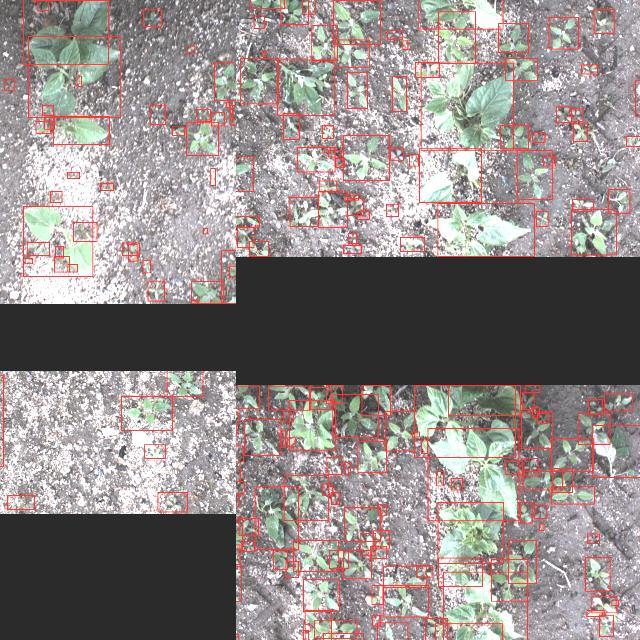crop: (428, 428, 518, 520), (421, 62, 514, 150), (27, 36, 119, 116), (414, 385, 514, 457), (443, 571, 527, 640), (22, 0, 107, 64), (437, 204, 533, 256), (22, 206, 92, 276), (437, 502, 503, 564), (419, 149, 481, 203), (277, 59, 333, 115), (418, 0, 502, 29), (448, 385, 520, 415), (332, 0, 380, 44), (342, 136, 390, 180), (570, 210, 616, 254), (438, 11, 474, 63), (516, 150, 552, 200), (239, 58, 277, 104), (52, 116, 108, 144), (438, 558, 482, 586), (434, 624, 501, 640), (318, 192, 347, 228), (548, 17, 578, 48), (296, 148, 334, 172), (334, 40, 368, 66), (498, 23, 528, 52), (312, 25, 336, 61), (289, 198, 317, 226), (347, 72, 367, 108), (505, 58, 537, 80), (280, 0, 308, 25), (499, 125, 528, 148), (236, 156, 252, 191), (392, 76, 406, 112), (248, 242, 268, 256), (250, 0, 284, 8), (236, 216, 258, 227), (635, 80, 640, 116)
weed: (254, 486, 298, 550), (592, 425, 640, 477), (289, 400, 335, 450), (284, 476, 328, 520), (332, 394, 378, 436), (120, 396, 172, 430), (490, 559, 528, 601), (382, 585, 428, 617), (292, 540, 338, 572), (550, 438, 592, 472), (244, 419, 280, 455), (508, 540, 536, 584), (344, 507, 380, 541), (384, 411, 414, 451), (520, 412, 552, 448), (302, 580, 338, 612), (186, 122, 218, 156), (268, 385, 310, 409), (382, 566, 426, 588), (577, 414, 609, 444), (356, 441, 386, 473), (166, 371, 202, 397), (584, 557, 610, 591), (362, 385, 391, 415), (343, 550, 371, 580), (214, 62, 236, 100), (304, 610, 331, 640), (522, 470, 562, 490), (550, 486, 594, 504), (314, 620, 356, 638), (191, 282, 223, 304), (157, 492, 187, 512), (607, 189, 629, 213), (377, 623, 407, 640), (236, 385, 258, 408), (425, 618, 447, 640), (308, 387, 330, 409), (72, 222, 96, 242), (593, 9, 613, 33), (552, 468, 572, 492), (603, 394, 631, 411), (283, 113, 299, 139), (6, 496, 34, 510), (415, 62, 439, 78), (400, 236, 424, 252), (592, 596, 616, 612), (236, 228, 254, 248), (238, 518, 258, 536), (328, 550, 348, 568), (149, 105, 165, 125), (147, 281, 163, 301), (272, 550, 288, 570), (323, 632, 363, 640), (599, 615, 613, 637), (360, 533, 374, 555), (143, 10, 161, 26), (347, 198, 363, 216), (326, 385, 342, 403), (372, 531, 388, 549), (27, 242, 49, 255), (144, 445, 164, 459), (573, 124, 587, 142), (523, 458, 537, 476), (326, 456, 340, 474), (572, 200, 592, 212), (520, 502, 532, 522), (54, 256, 68, 272), (555, 108, 571, 122), (505, 460, 521, 474), (521, 392, 533, 410), (122, 242, 138, 255), (369, 546, 386, 558), (210, 112, 224, 126), (588, 400, 602, 414), (415, 565, 431, 577), (286, 561, 298, 577), (236, 517, 242, 548), (318, 181, 336, 191), (372, 586, 382, 604), (301, 0, 314, 13), (36, 121, 50, 133), (196, 109, 210, 121), (535, 212, 547, 226), (570, 108, 582, 122), (581, 64, 597, 74), (386, 30, 402, 40), (625, 136, 640, 146), (128, 244, 136, 262), (252, 16, 264, 28), (342, 246, 360, 254), (386, 204, 398, 216), (390, 148, 402, 160), (534, 506, 546, 518), (451, 478, 462, 490), (322, 125, 332, 138), (240, 541, 253, 551), (44, 117, 54, 129), (4, 79, 14, 91), (172, 126, 184, 136), (230, 105, 236, 125), (532, 133, 544, 143), (543, 156, 555, 166), (408, 154, 418, 166), (587, 533, 599, 543), (536, 413, 548, 423), (283, 409, 293, 421), (142, 260, 150, 274), (525, 384, 539, 392), (236, 445, 243, 461), (50, 192, 61, 202), (586, 611, 604, 617), (42, 105, 52, 115), (37, 0, 47, 10), (334, 158, 344, 168), (322, 484, 332, 494), (55, 246, 63, 258), (328, 150, 340, 158), (357, 212, 369, 220), (436, 470, 442, 486), (421, 438, 427, 454), (331, 492, 339, 504), (378, 504, 386, 516), (236, 481, 243, 494), (66, 172, 80, 178), (100, 183, 112, 190), (67, 264, 77, 272), (228, 266, 236, 276), (348, 234, 356, 244), (372, 616, 380, 626), (210, 168, 214, 186), (344, 462, 350, 474), (287, 438, 295, 447), (236, 544, 239, 566), (281, 431, 285, 447), (402, 40, 408, 50), (532, 407, 538, 417), (236, 466, 240, 481), (232, 105, 236, 119), (344, 196, 358, 200), (302, 630, 307, 640), (24, 258, 32, 264), (186, 46, 194, 52), (304, 624, 310, 632), (76, 76, 80, 86), (236, 493, 239, 506), (538, 524, 544, 530), (612, 600, 618, 606), (191, 300, 197, 304), (203, 228, 207, 234), (225, 102, 229, 108), (261, 50, 265, 56), (323, 148, 329, 152), (412, 432, 418, 436)
